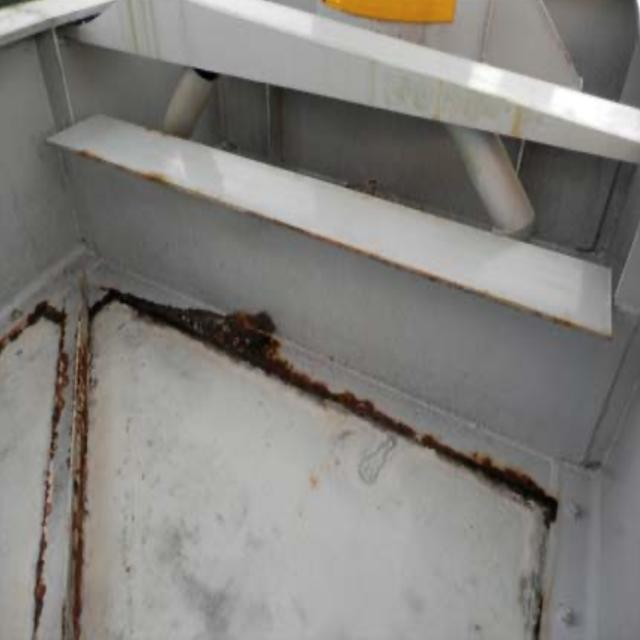corrosion: (19, 257, 552, 633)
